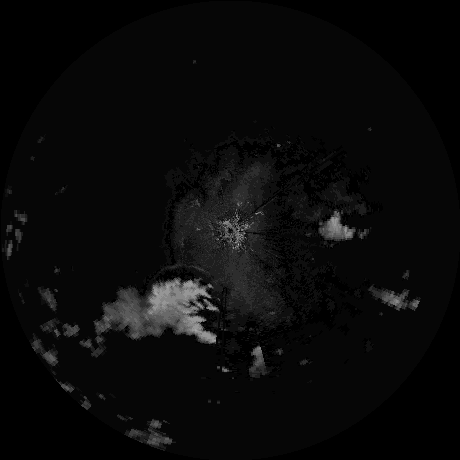frontgust: (155, 263, 218, 282)
